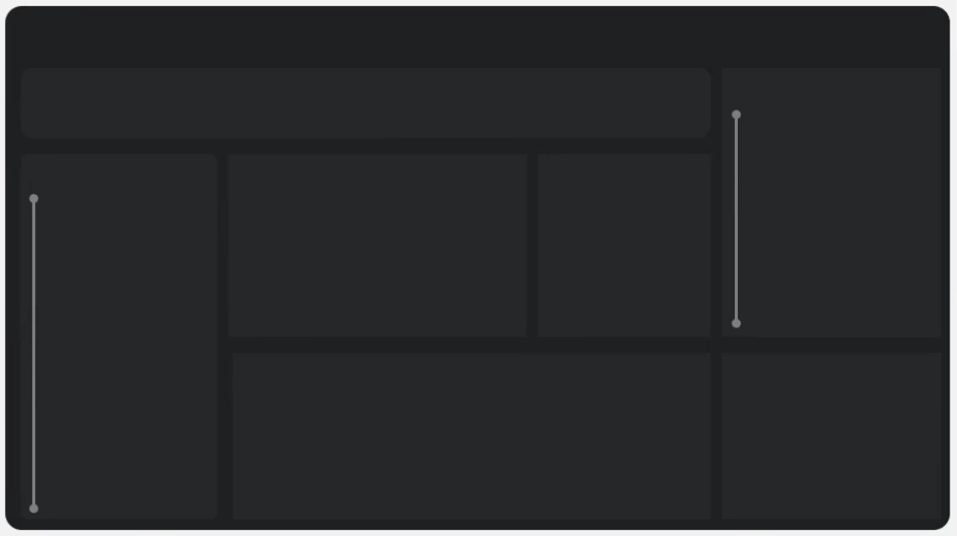

This screenshot's page, from the dashboard's own definition file:
{"tool":"powerbi","page":{"name":"Landing Page","canvas":[1280,720],"ordinal":0},"visuals":[{"type":"textbox","box":[18.4,17,547.1,80.8],"z":0},{"type":"pageNavigator","box":[31.2,130.4,148.8,177.2],"z":1000},{"type":"slicer","fields":{"Values":["Lookup_routes.RouteName"]},"box":[1070.1,4.6,197,53.9],"z":2000},{"type":"textbox","box":[860.3,13.8,209.8,35.4],"z":3000}]}

Visuals, with their boxes in screenshot pixels (x1, y1, x2, y2), scaled from the page's 1280x720 canvas onto the 957x536 screenshot:
textbox: (14, 13, 423, 73)
pageNavigator: (23, 97, 135, 229)
slicer - Lookup_routes.RouteName: (800, 3, 947, 44)
textbox: (643, 10, 800, 37)
